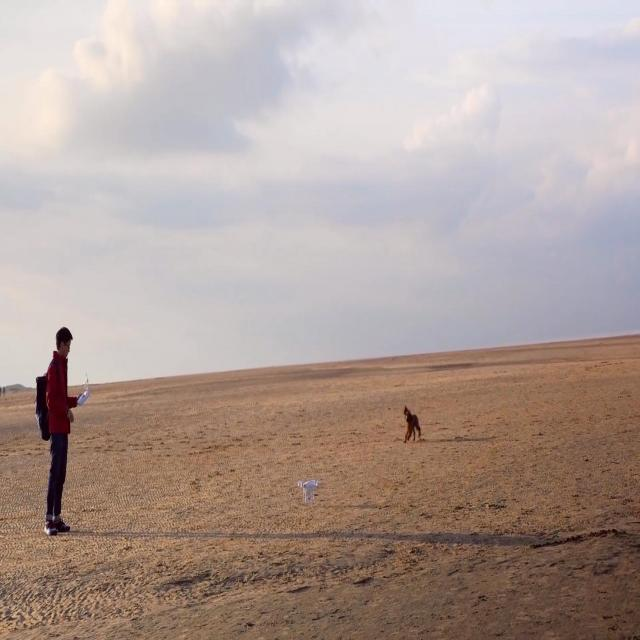drone: (296, 472, 320, 504)
